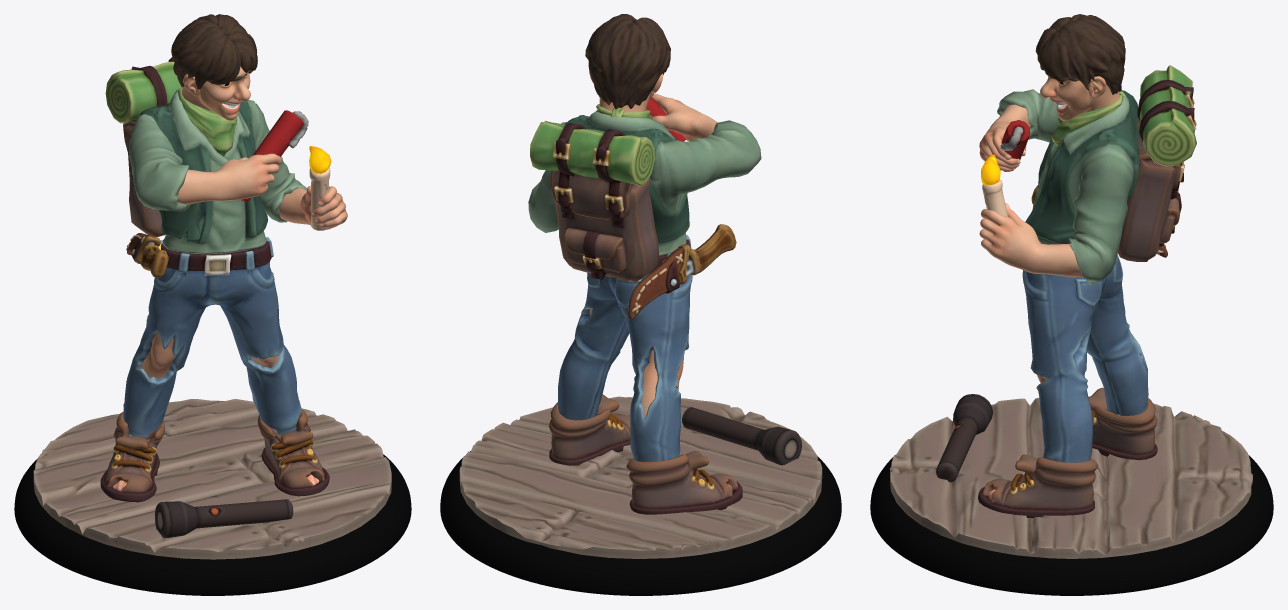
The model's file is jaden-jones.glb.
3 renders of one model, left to right at view 1: azimuth 30°, elevation 25°; view 2: azimuth 150°, elevation 25°; view 3: azimuth 270°, elevation 25°, orthographic.
Bounding box in the file's own units: 0.7345 × 1 × 0.7345.
Materials: 1 (1 with a texture image).
